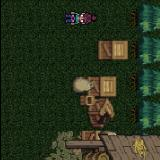Hide: (90, 33, 127, 66)
Obstacle: (41, 128, 160, 160), (66, 66, 127, 127), (125, 67, 160, 99), (126, 2, 160, 34), (126, 34, 160, 66), (127, 98, 160, 128)
Victim: (60, 6, 98, 31)
